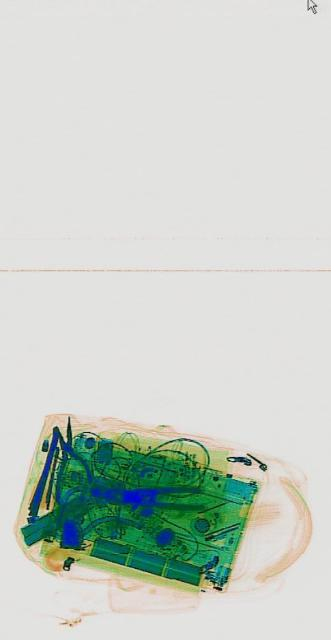Pliers: (43, 408, 93, 504), (122, 484, 203, 508)
